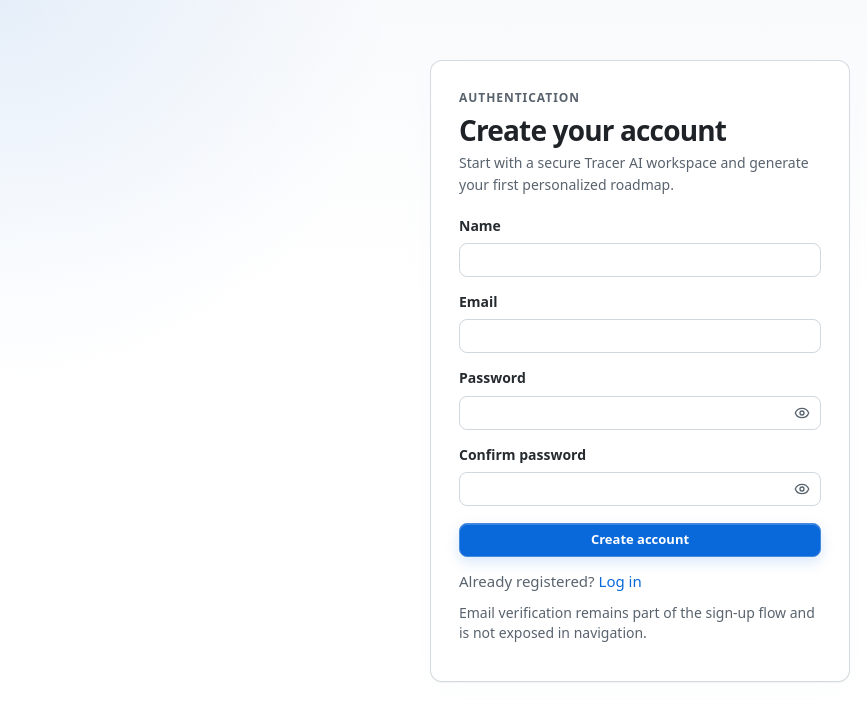
Test: blocks signup when the two passwords differ
The width and height of the screenshot is (867, 714).
Type "New Learner" into the field labelled "Name" at [640, 260], box left=459, top=243, right=821, bottom=277
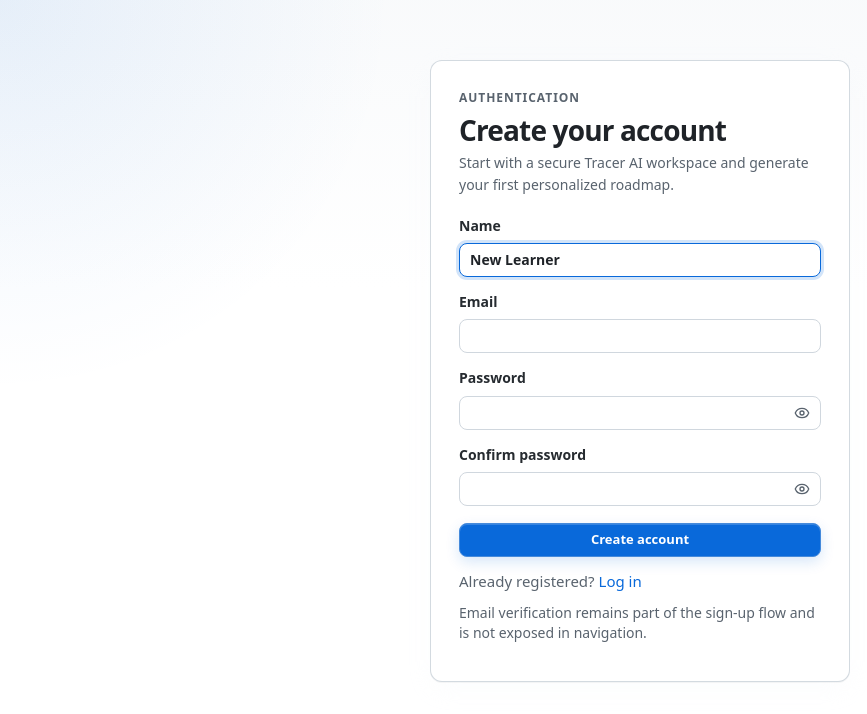
Type "new@example.com" into the field labelled "Email" at [640, 336], box left=459, top=319, right=821, bottom=353
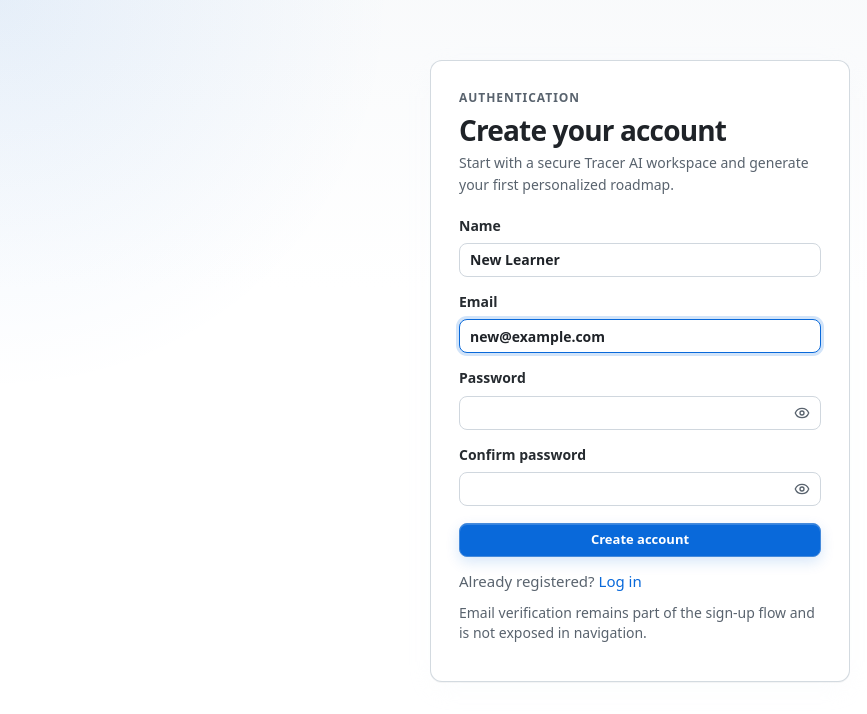
Type "SecurePassword!2026" into the password field labelled "Password" at [640, 413], box left=459, top=396, right=821, bottom=430
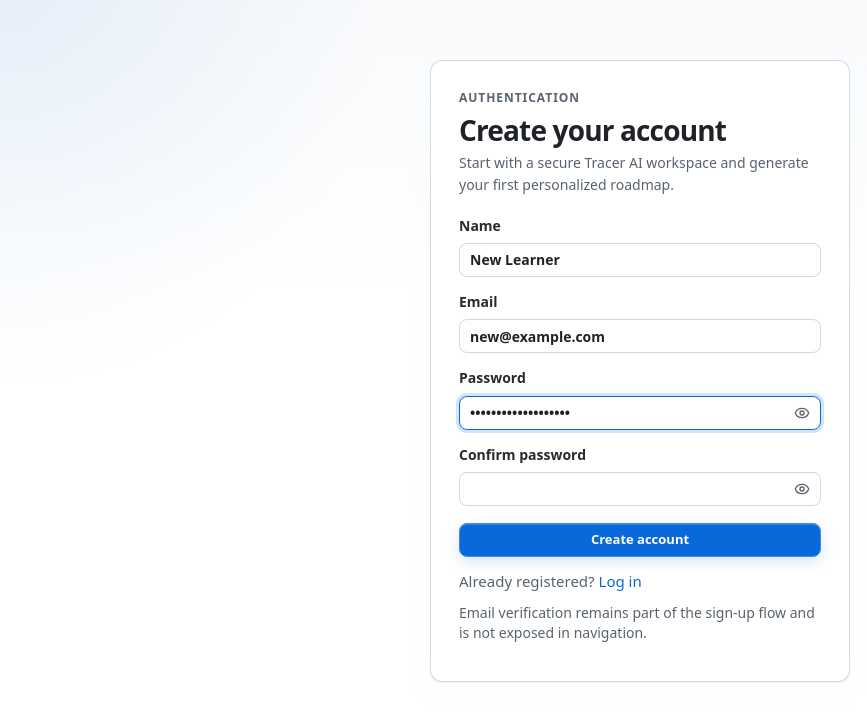
Type "SecurePassword!2027" into the password field labelled "Confirm password" at [640, 489], box left=459, top=472, right=821, bottom=506
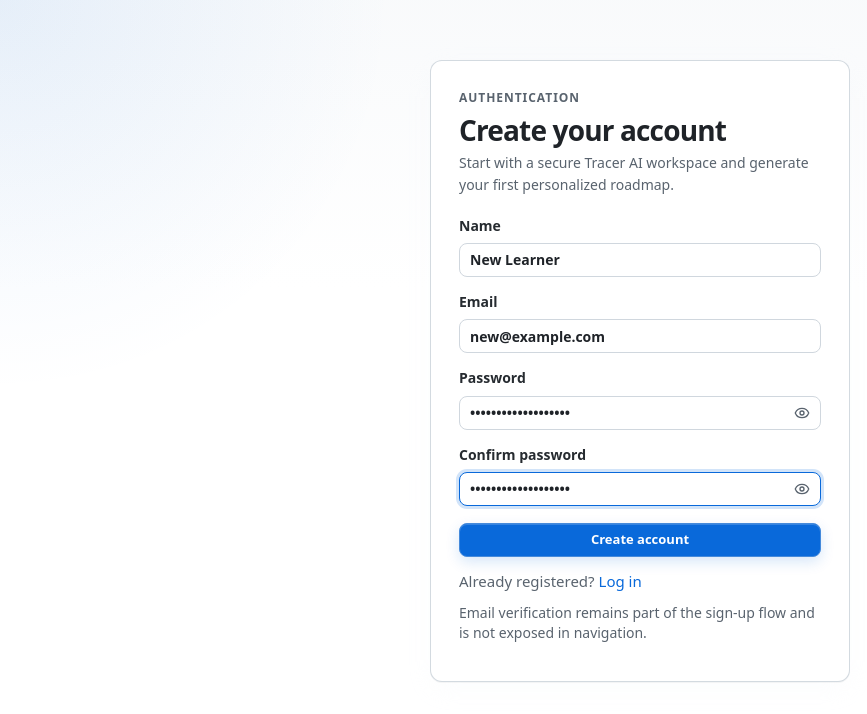
Click the button "Create account" at [640, 540], box left=459, top=523, right=821, bottom=557
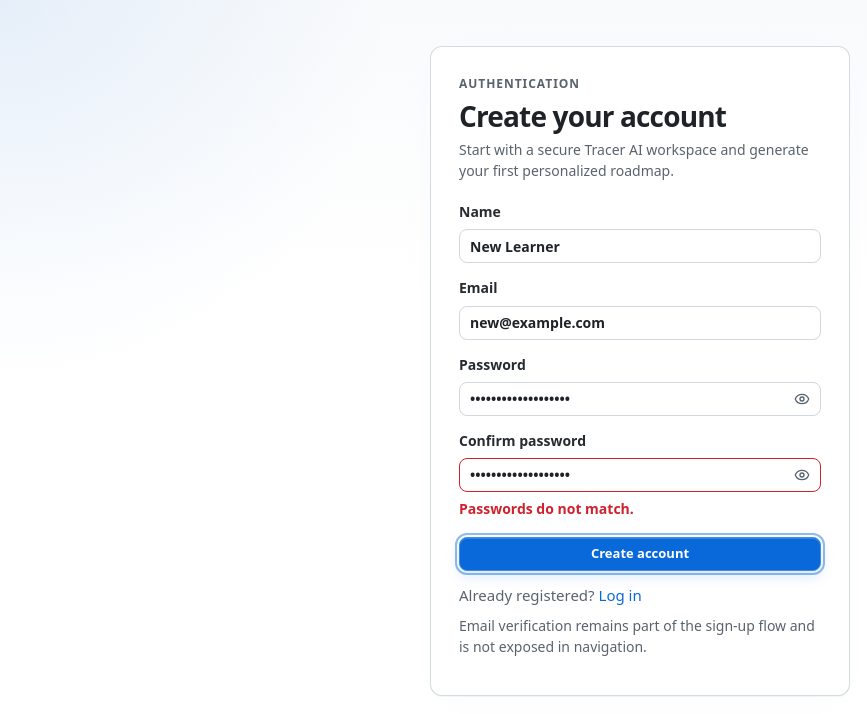
Result: the text "Passwords do not match." is shown at left=459, top=499, right=634, bottom=518
